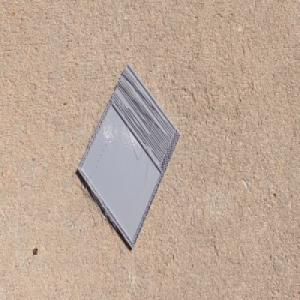PlasticPart: (76, 62, 182, 252)
